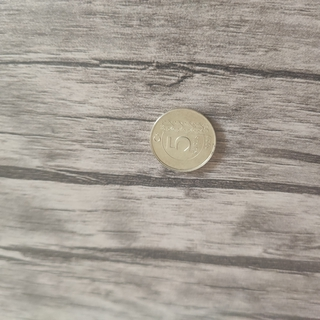5KURUS: (147, 105, 218, 175)
